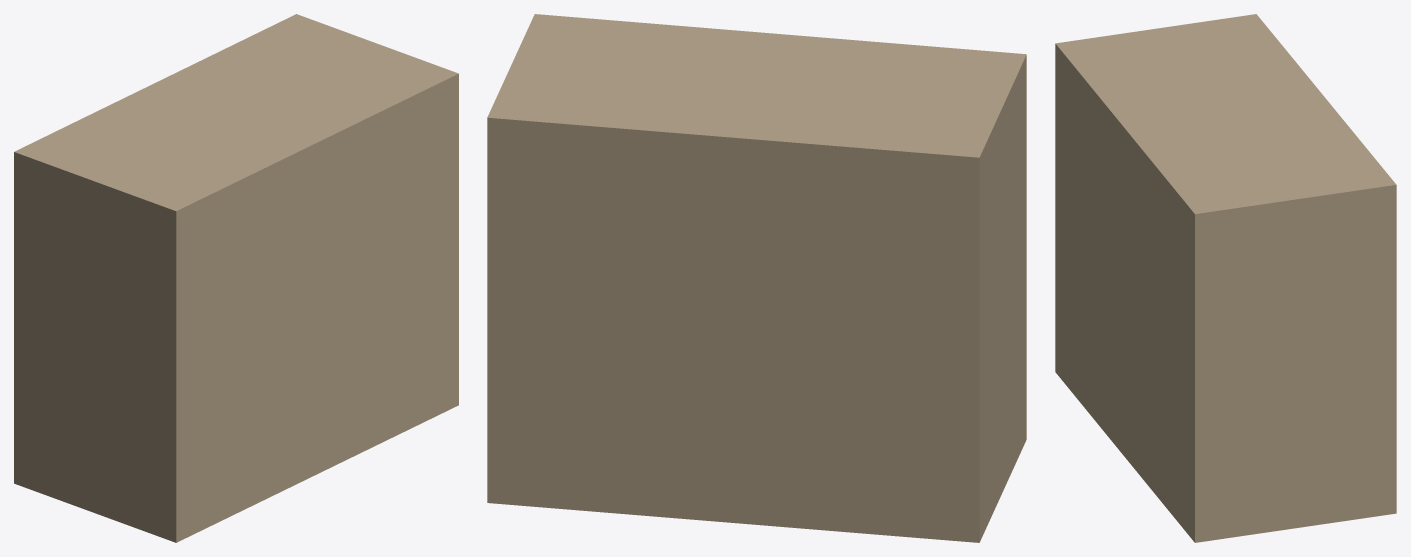
File: bld_100469713.dae
The picture shows the model from 3 angles, left to right: view 1: azimuth 30°, elevation 25°; view 2: azimuth 150°, elevation 25°; view 3: azimuth 270°, elevation 25°; orthographic projection. The views are drawn at different scales.
Visible parts, largest first — view 1: bld_100469713; view 2: bld_100469713; view 3: bld_100469713.
Boxes of the visible parts, bbox=[...] form: bld_100469713: bbox=[14, 14, 458, 542]; bld_100469713: bbox=[487, 14, 1026, 542]; bld_100469713: bbox=[1055, 14, 1396, 542].
Size of the model in its own units: 10.45 by 7.52 by 8.
